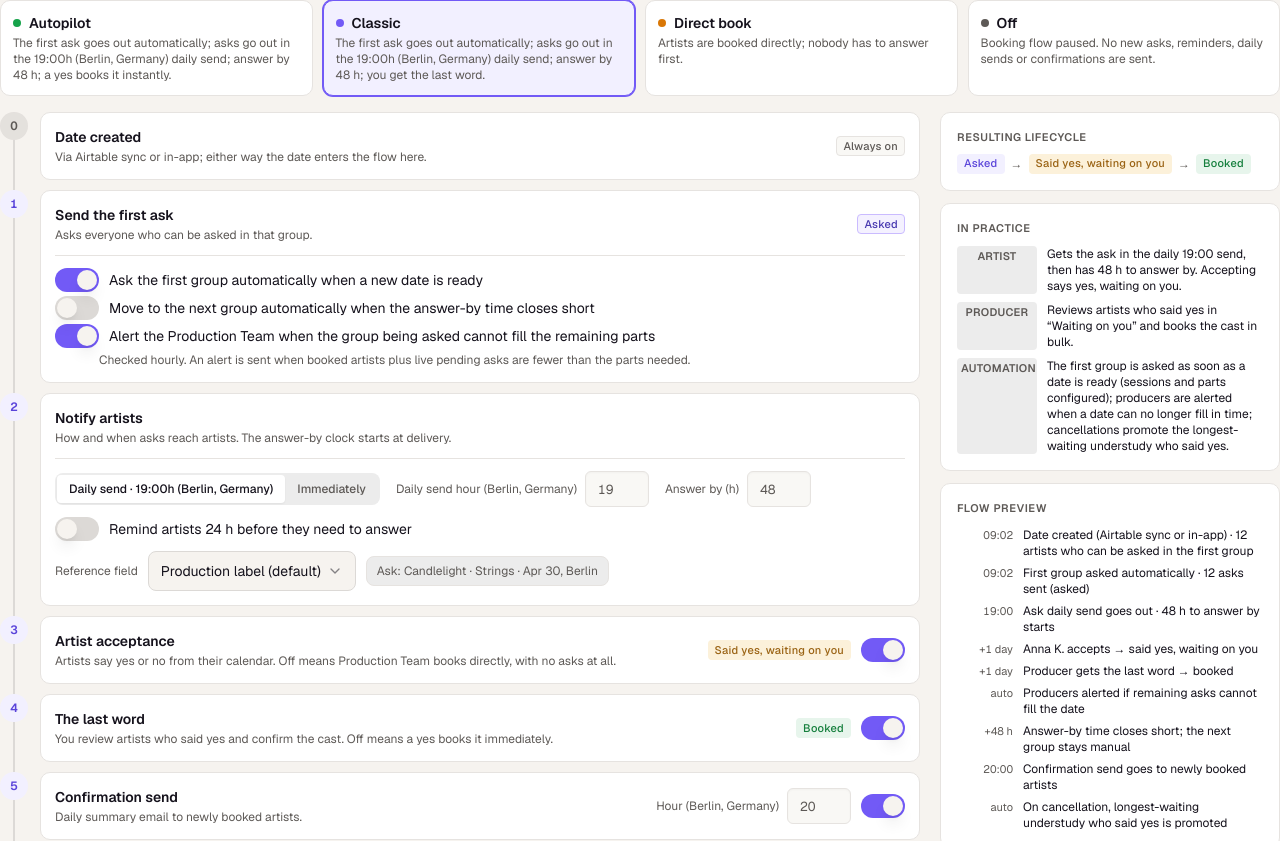
Test: BookingFlowTab › restores the user's producer_confirmation choice after an acceptance off/on round trip
Note: Fast-track: artist_acceptance stays on, producer_confirmation goes off.
Click the button "Autopilot" at (156, 48), box top-left (0, 0), bottom-right (312, 96)
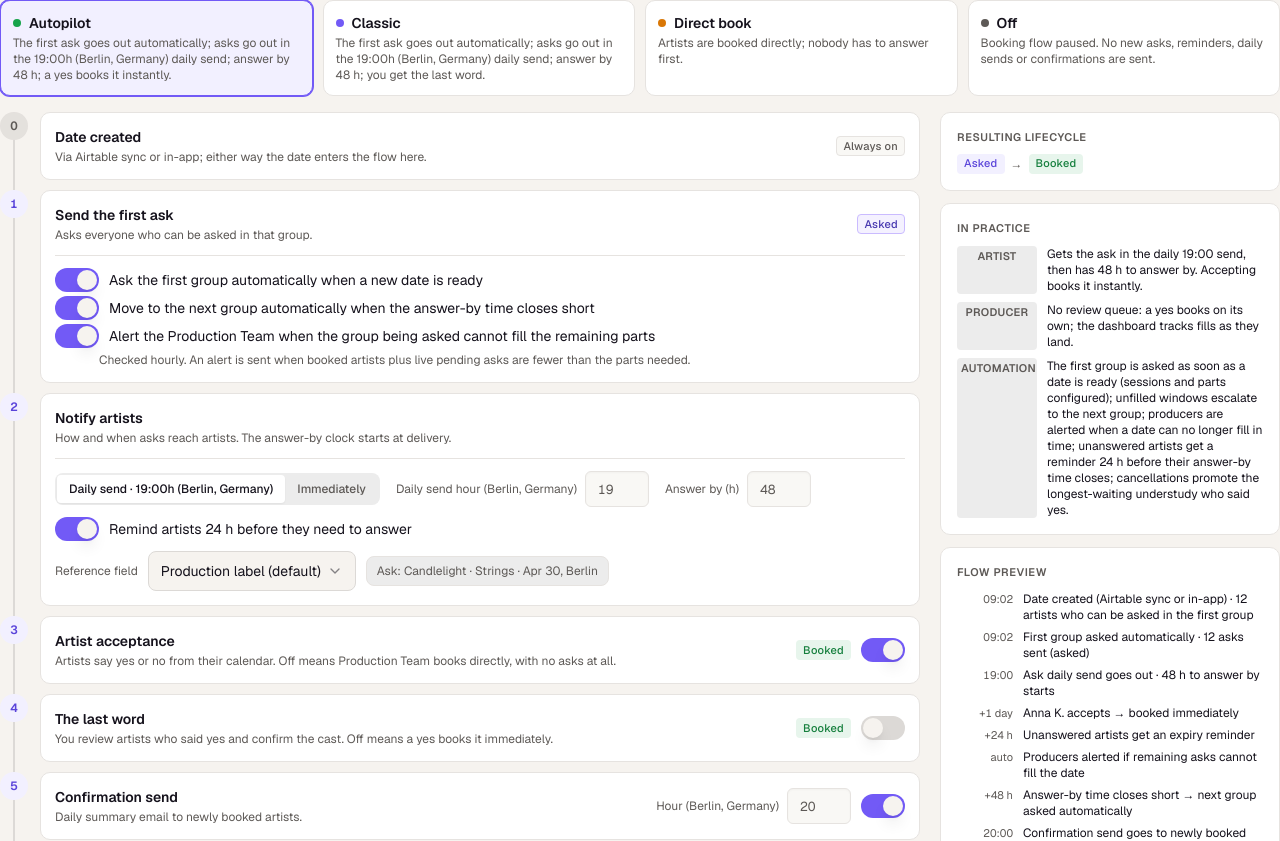
Expected: the switch named "the last word" is not checked, top-left (861, 716), bottom-right (905, 740)
Note: Toggle acceptance off then back on.
Click the switch named "artist acceptance" at (883, 650), box top-left (861, 638), bottom-right (905, 662)
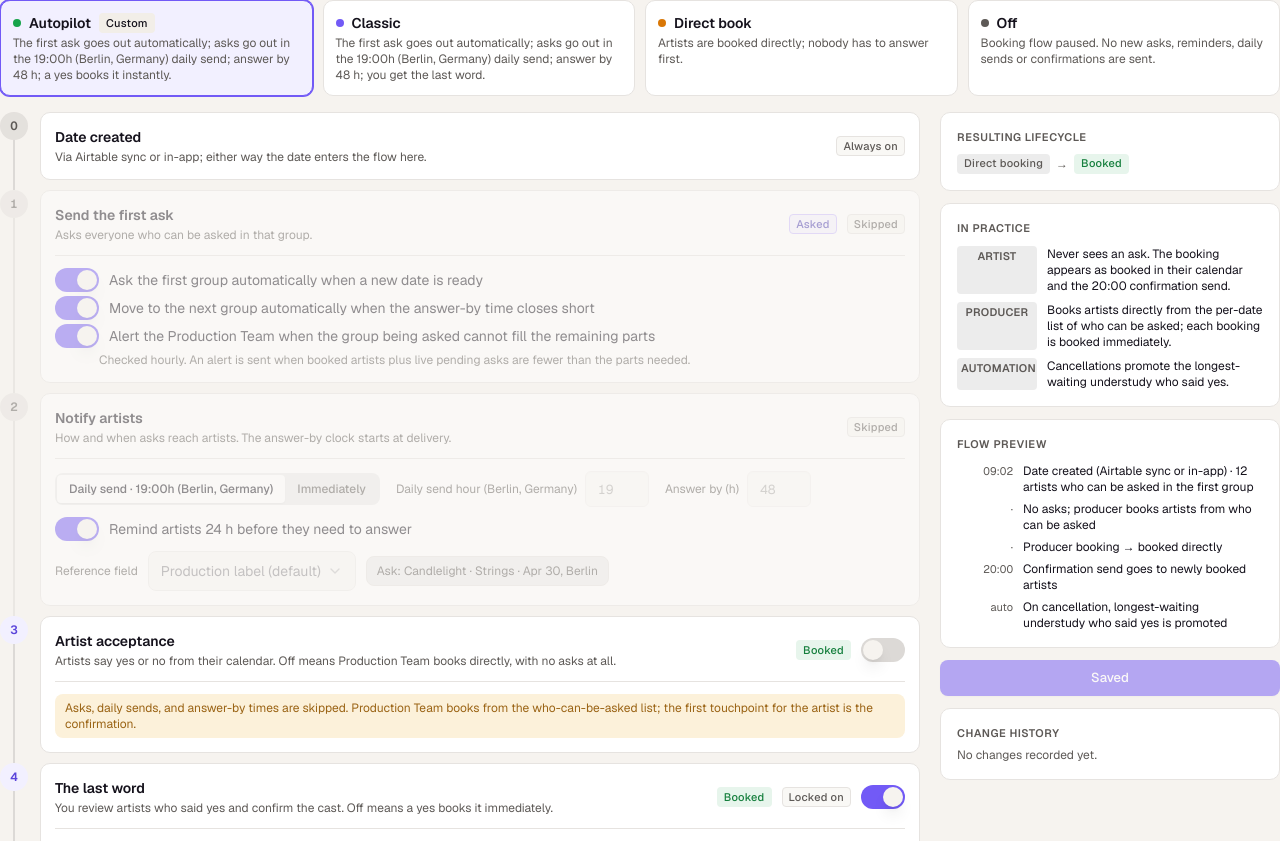
Expected: the switch named "the last word" is checked, top-left (861, 785), bottom-right (905, 809)
Click the switch named "artist acceptance" at (883, 650), box top-left (861, 638), bottom-right (905, 662)
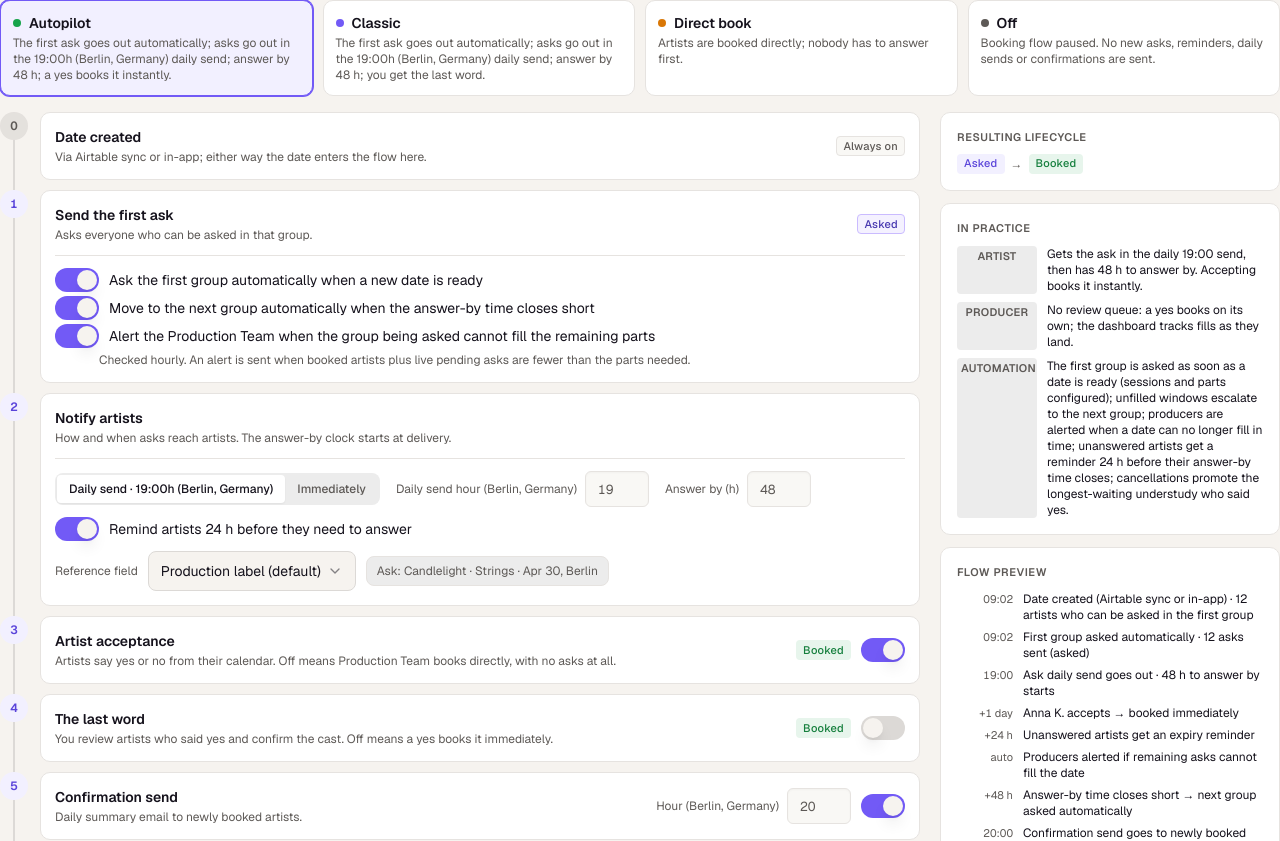
Expected: the switch named "the last word" is not checked, top-left (861, 716), bottom-right (905, 740)
